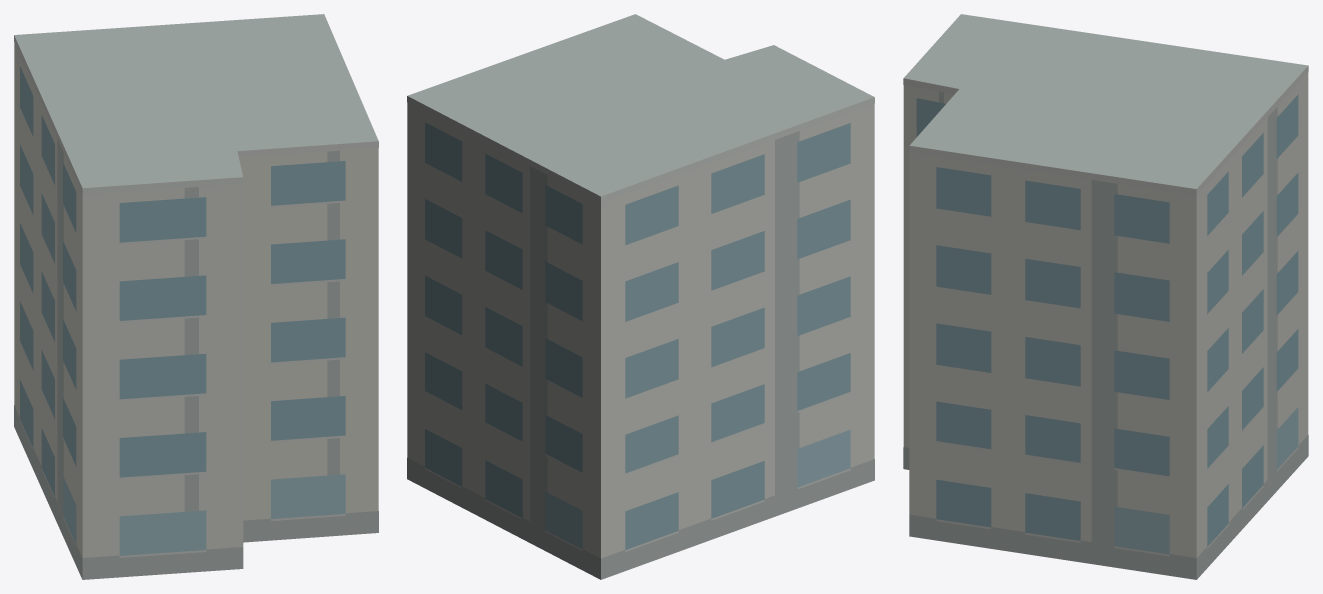
Rendered from survey-upis-33026019.glb.
3 views of the same model, side by side, from view 1: azimuth 30°, elevation 25°; view 2: azimuth 150°, elevation 25°; view 3: azimuth 270°, elevation 25° (orthographic). The views are drawn at different scales.
Parts seen in each view (by area): view 1: survey-upis-33026019.tmp; view 2: survey-upis-33026019.tmp; view 3: survey-upis-33026019.tmp.
Boxes of the visible parts, x1,y1,x2,y2 form: survey-upis-33026019.tmp: (14, 14, 378, 579); survey-upis-33026019.tmp: (407, 14, 874, 579); survey-upis-33026019.tmp: (903, 14, 1308, 579).
Bounding box in the file's own units: 13.75 × 14.3 × 13.44.
